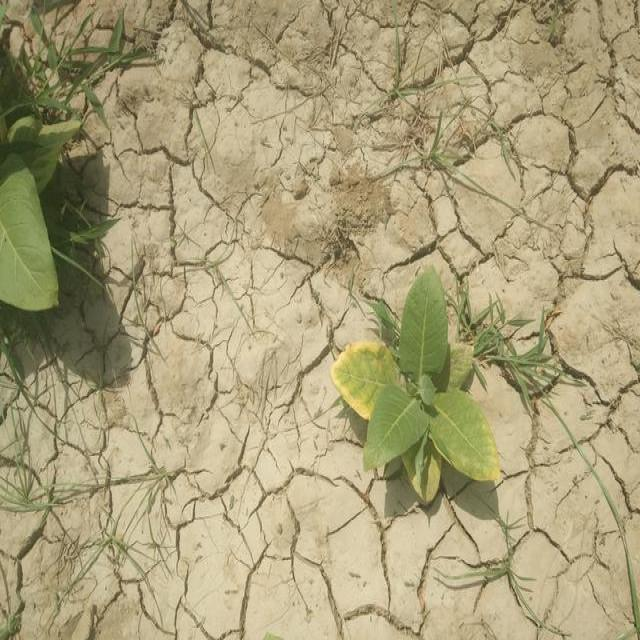crop: (330, 260, 512, 510)
